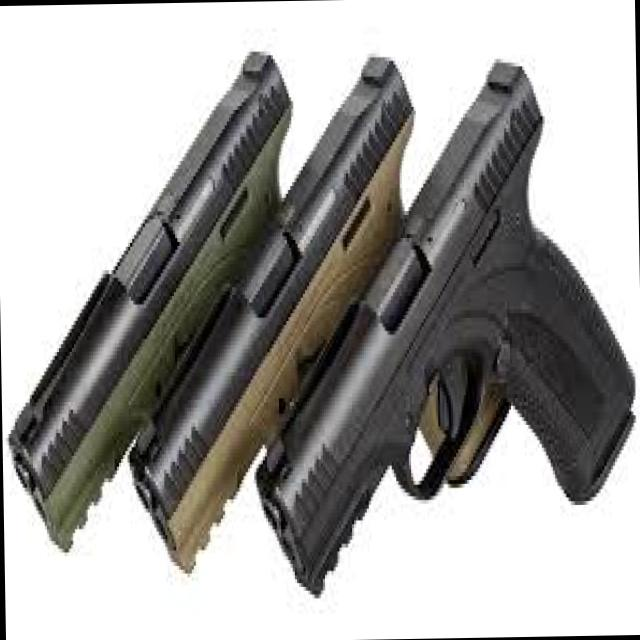Gun: (240, 33, 640, 618), (120, 29, 517, 609), (0, 26, 372, 591)
